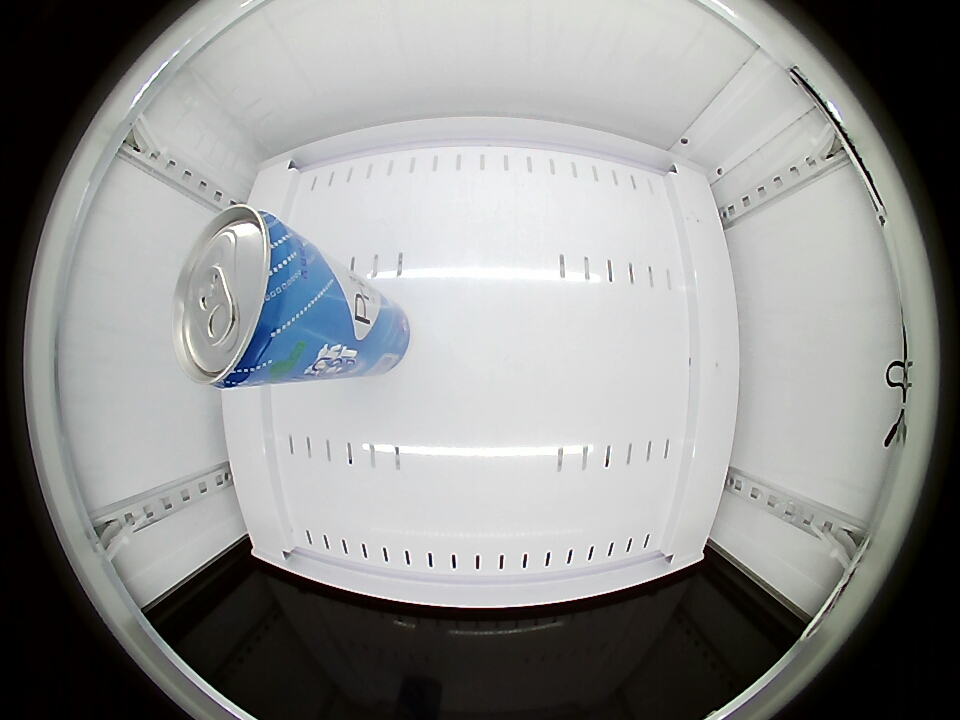qingdaowangzi-2: (173, 204, 316, 391)
